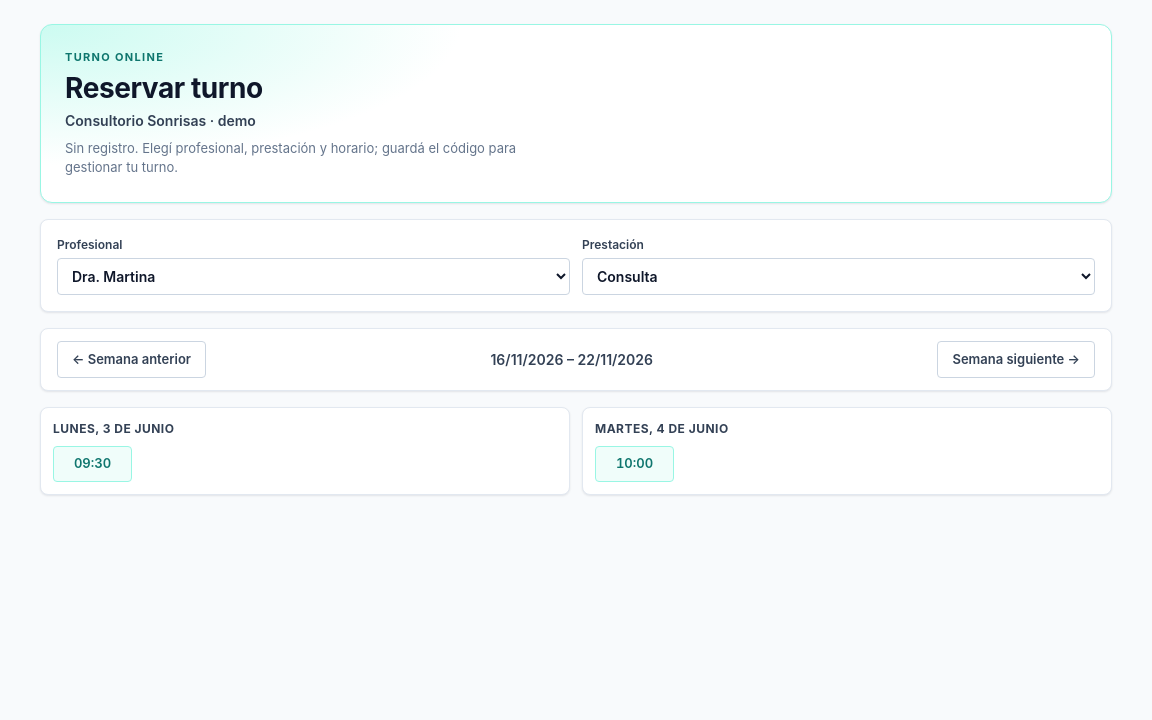
turnero público › abre el modal de reserva y muestra el código al confirmar
Click the button "09:30". click: (92, 464)
box: 53,446 -> 132,482
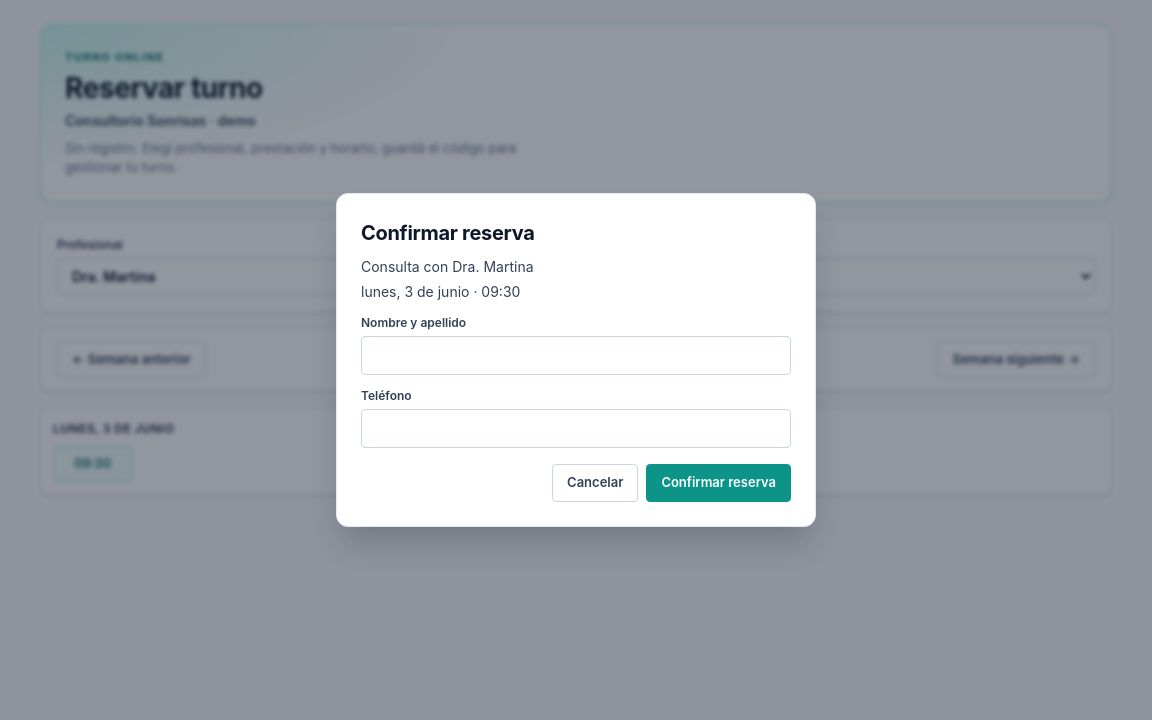
Expected: the dialog "Confirmar reserva" is shown
Type "Ana Ficticia" into the field labelled "Nombre y apellido". click: (576, 356)
box: 361,336 -> 791,375
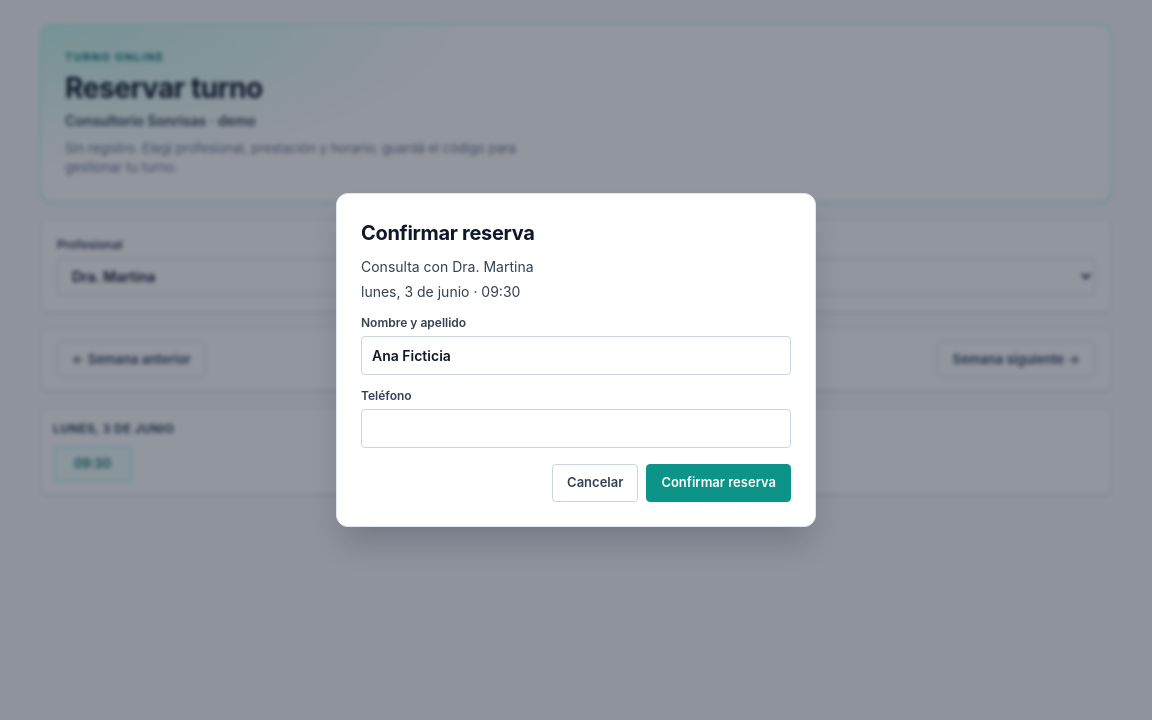
Type "1155550001" into the field labelled "Teléfono". click: (576, 429)
box: 361,409 -> 791,448
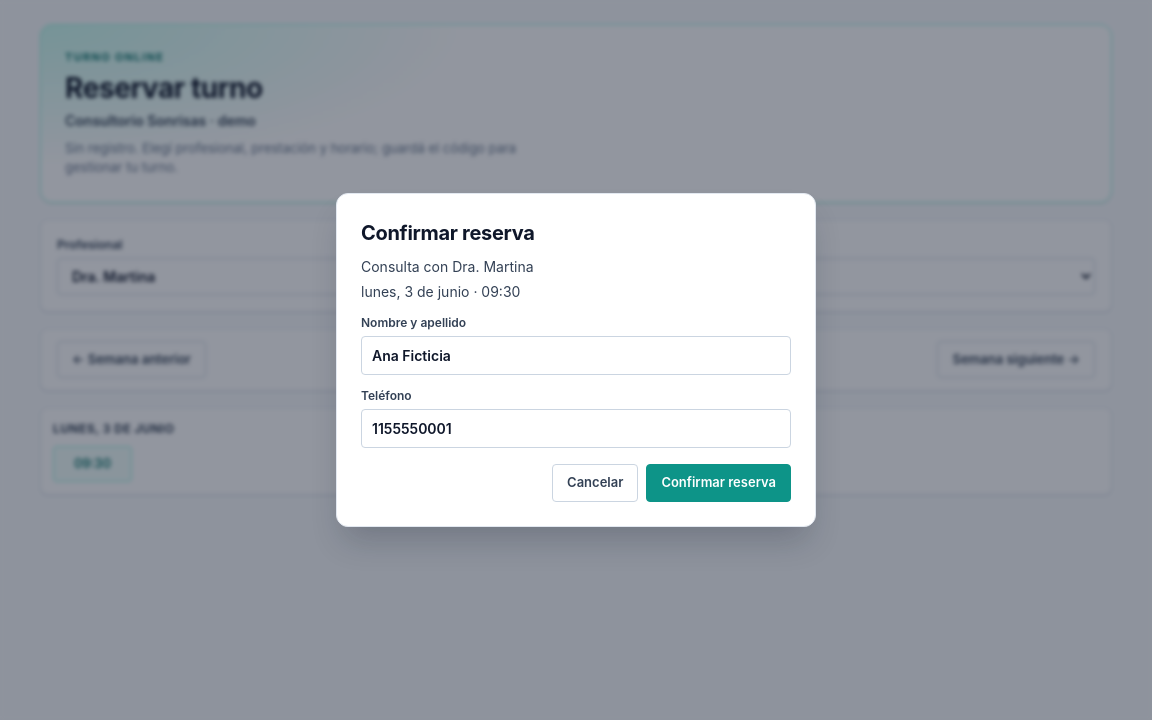
Click the button "Confirmar reserva". click: (719, 483)
box: 646,464 -> 791,502
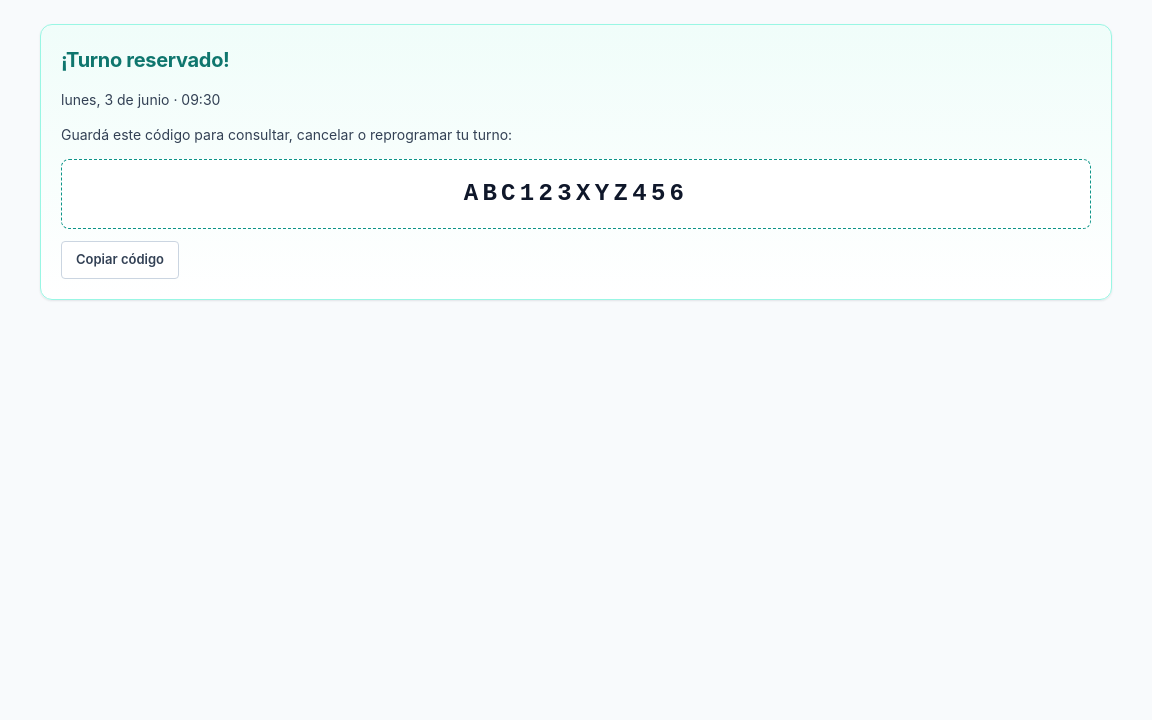
Expected: the text "ABC123XYZ456" is shown, 61,159 -> 1091,229
